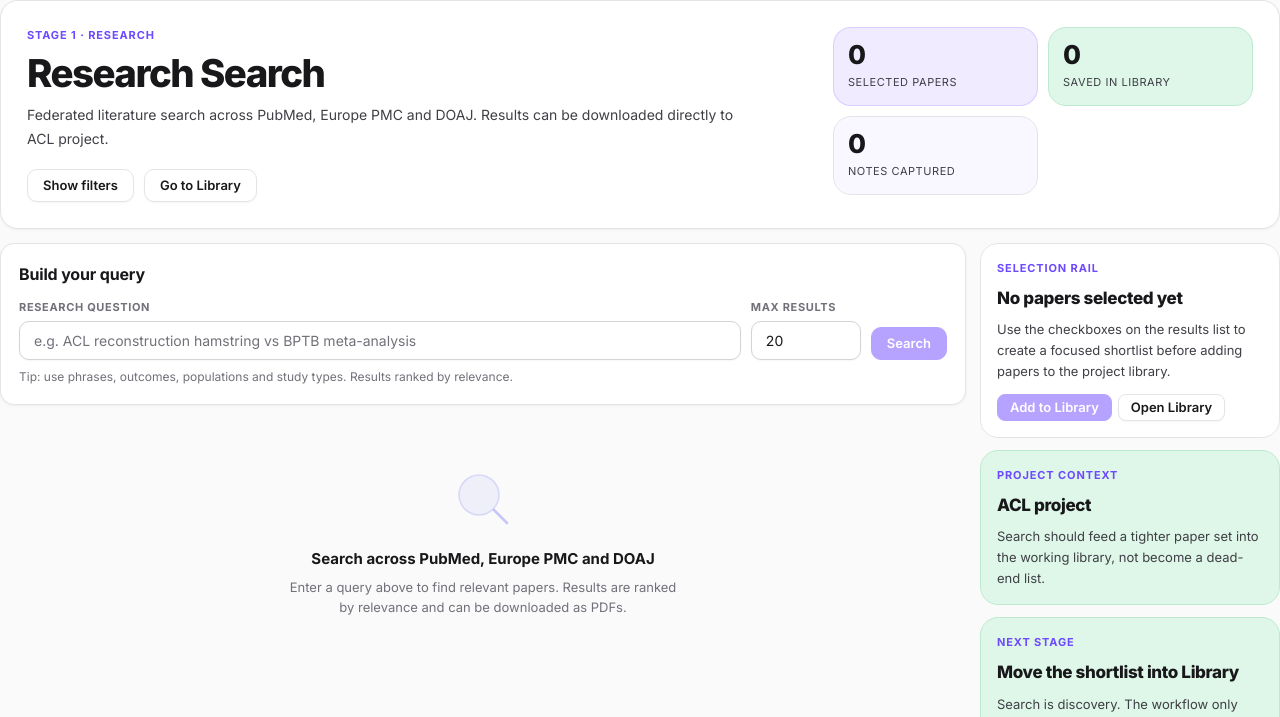
Test: SearchPage — filters › shows filter panel when Filters button is clicked
Click the button "Show filters": {"x": 80, "y": 185} [27, 169, 134, 202]
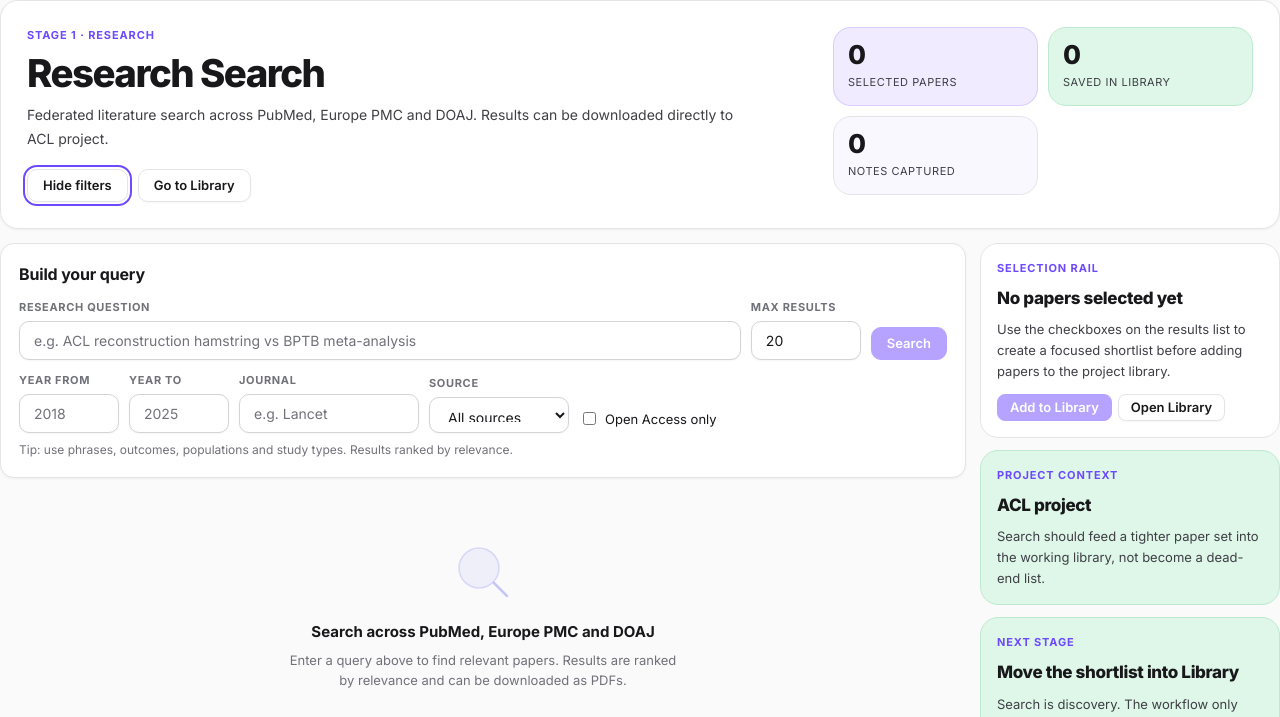
Check: the field with placeholder "e.g. Lancet" is shown, box [239, 394, 419, 433]
Check: the text "Open Access only" is shown, box [579, 409, 717, 433]
